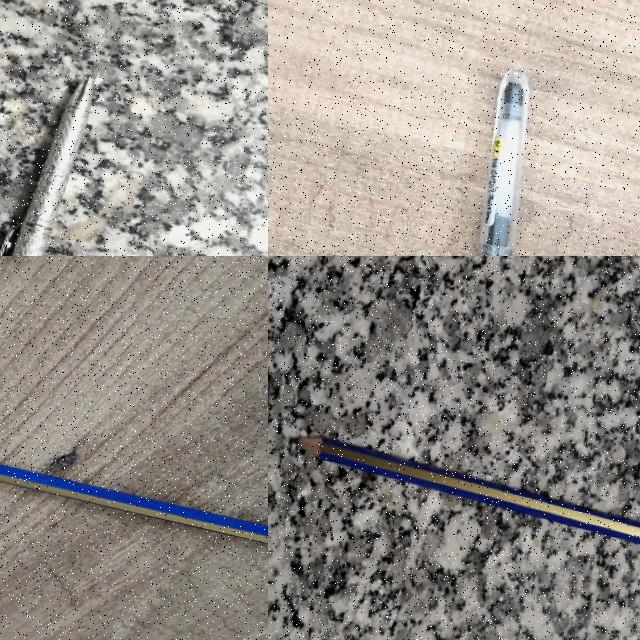pen: (479, 69, 528, 255)
pencil: (293, 437, 639, 544), (0, 464, 267, 542)
signature pen: (0, 75, 94, 255)
